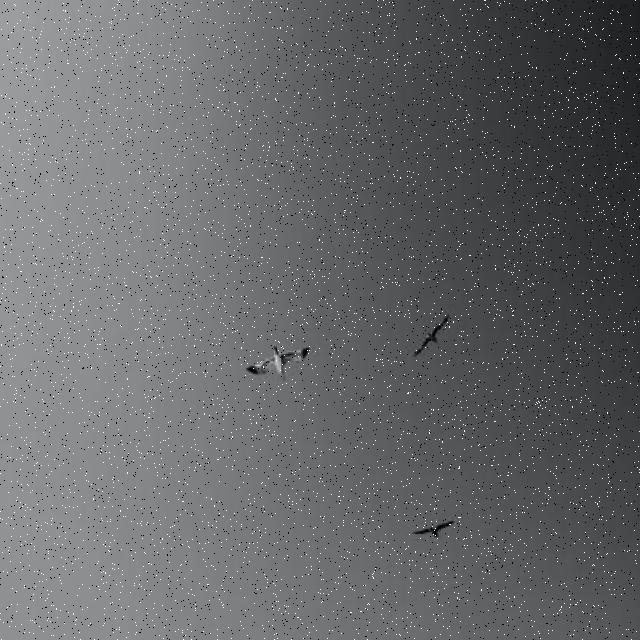bird: (247, 346, 310, 382), (413, 314, 450, 358), (412, 519, 456, 539)
